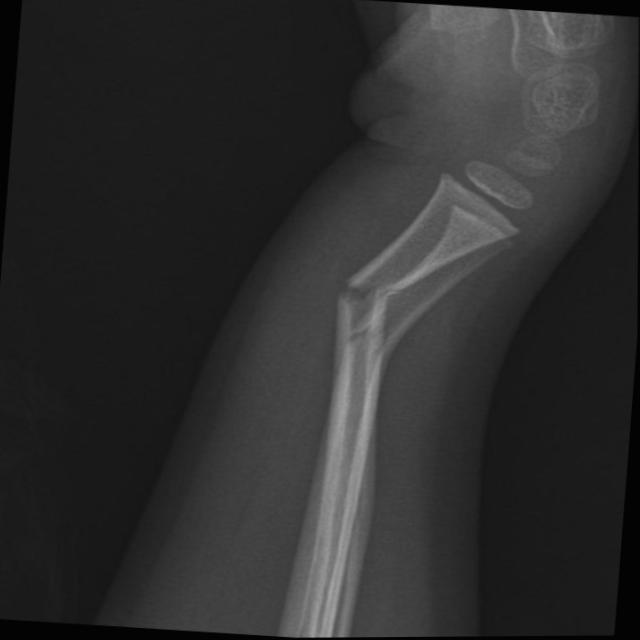Transverse Displaced: (303, 256, 401, 347)
